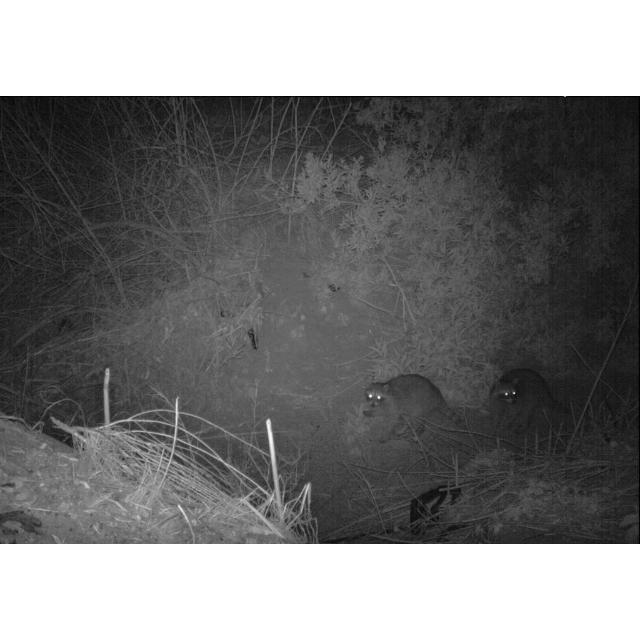animals: (362, 370, 472, 452), (489, 364, 568, 436)
